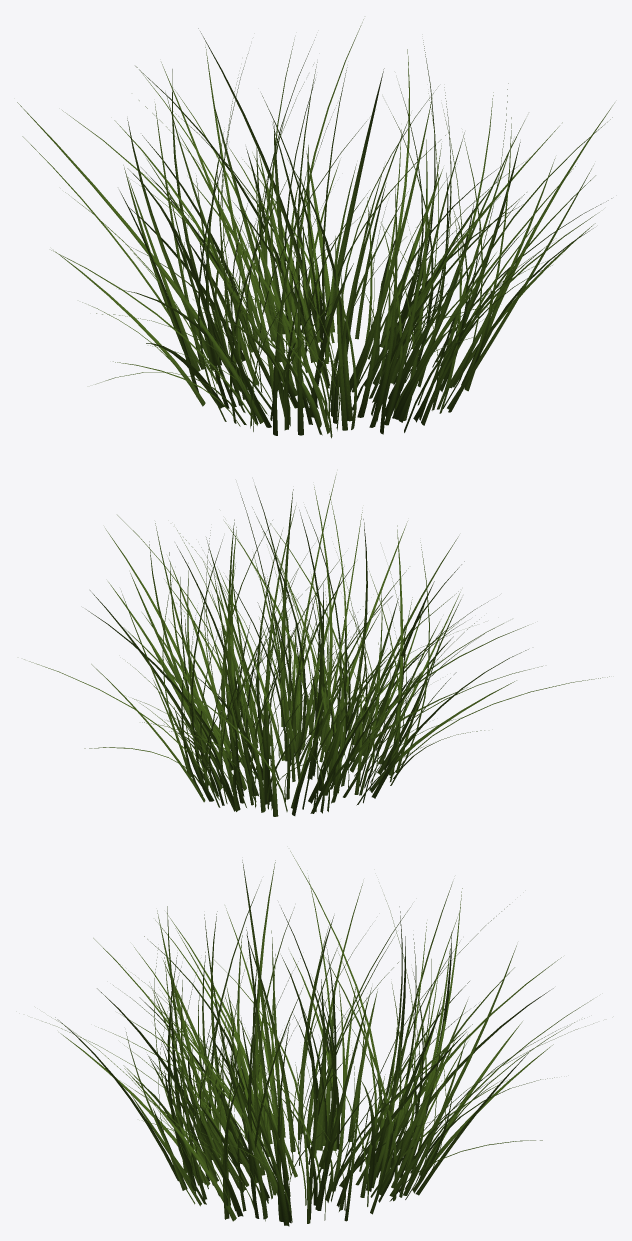
The model's file is grass_meadow_a_lod0.gltf.
3 views of the same model, one above another, from view 1: azimuth 30°, elevation 25°; view 2: azimuth 150°, elevation 25°; view 3: azimuth 270°, elevation 25° (orthographic). The views are drawn at different scales.
Visible parts, largest first — view 1: grass_meadow_a_lod0; view 2: grass_meadow_a_lod0; view 3: grass_meadow_a_lod0.
Boxes of the visible parts, <box> form: grass_meadow_a_lod0: <box>17,19,614,438</box>; grass_meadow_a_lod0: <box>24,474,609,816</box>; grass_meadow_a_lod0: <box>42,851,593,1226</box>.
Size of the model in its own units: 1.37 by 0.6695 by 1.38.
Materials: 1 (1 with a texture image).
